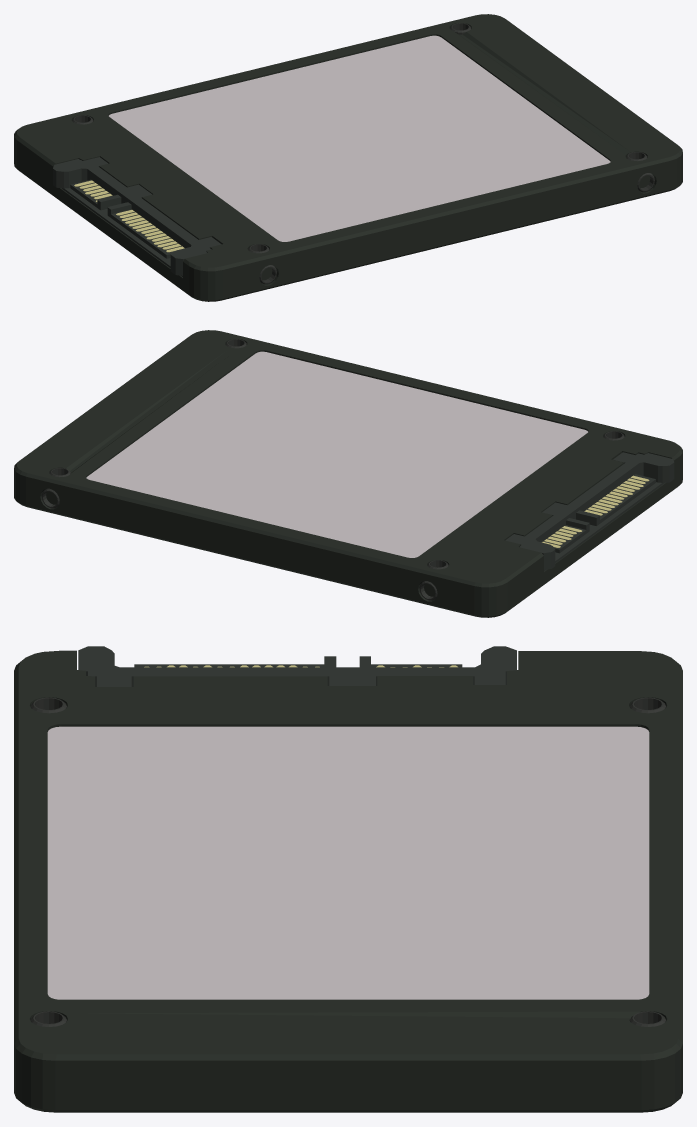
Rendered from ssd_25.glb.
3 renders of one model, top to bottom at view 1: azimuth 30°, elevation 25°; view 2: azimuth 150°, elevation 25°; view 3: azimuth 270°, elevation 25°, orthographic. The views are drawn at different scales.
Parts seen in each view (by area): view 1: Object_3; view 2: Object_3; view 3: Object_3.
Part boxes in pixels (box(x1,y1,x2,y2)): Object_3: box(14, 14, 682, 301); Object_3: box(14, 330, 682, 617); Object_3: box(14, 646, 682, 1112).
Size of the model in its own units: 0.1 by 0.00673 by 0.0688.
1 material, 1 textured.
